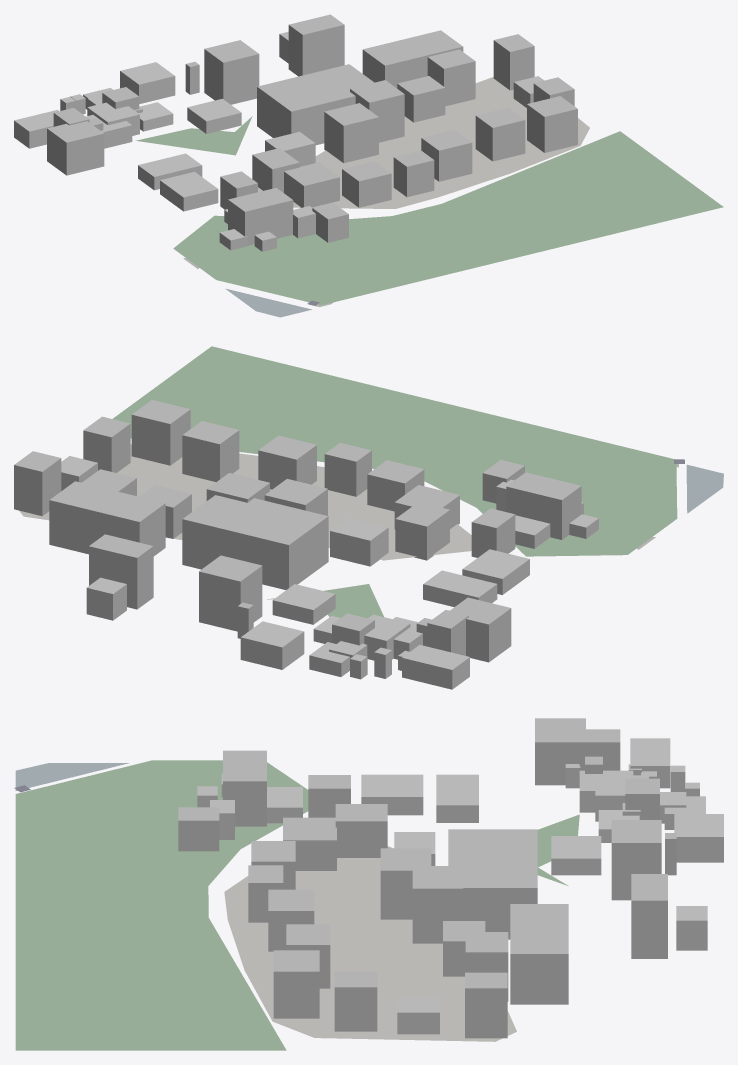
Rendered from 130_95_mid.glb.
3 views of the same model, one above another, from view 1: azimuth 30°, elevation 25°; view 2: azimuth 150°, elevation 25°; view 3: azimuth 270°, elevation 25° (orthographic). The views are drawn at different scales.
Size of the model in its own units: 504 by 49.67 by 517.
